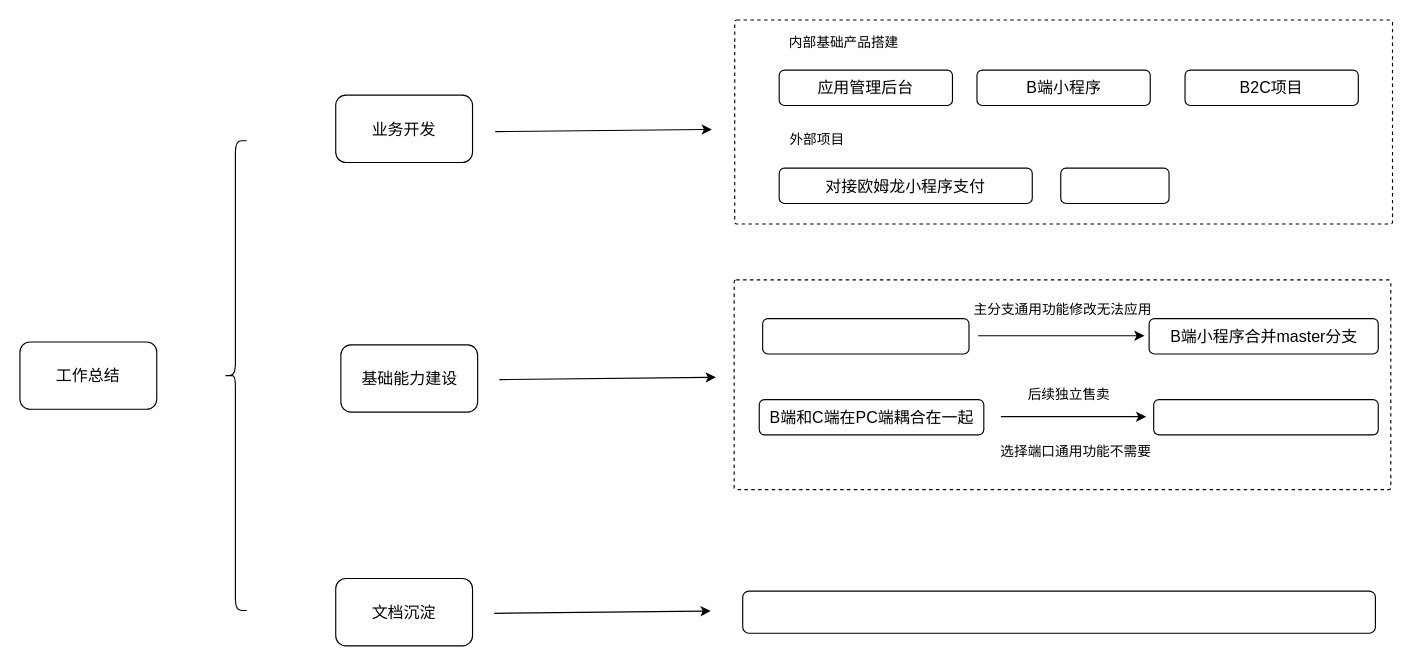
This 1412x666 diagram has some shape labels left out. The shapes that lost their labels are listed below. From the top down, each one's centre as x and y in pixels, then its label:
the point at 1114,185: 企康对接
the point at 865,335: B端小程序独立分支部署
the point at 1265,416: 配置后台以及B2C 单独拆分
the point at 1058,611: B端没有独立文档沉淀，包括开发提测上线流程以及业务相关文档
